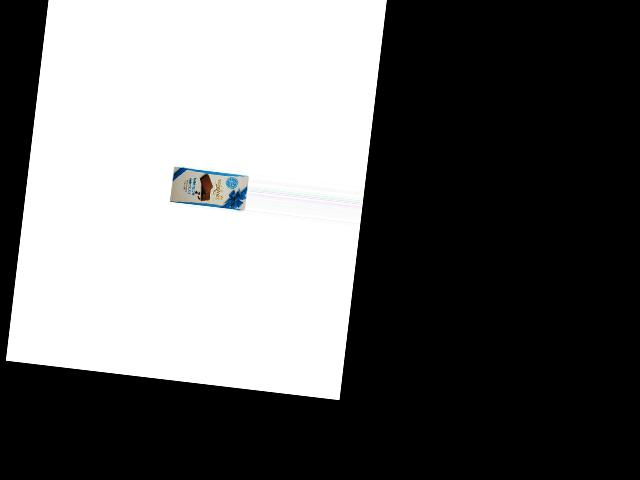chocolate: (167, 163, 250, 215)
